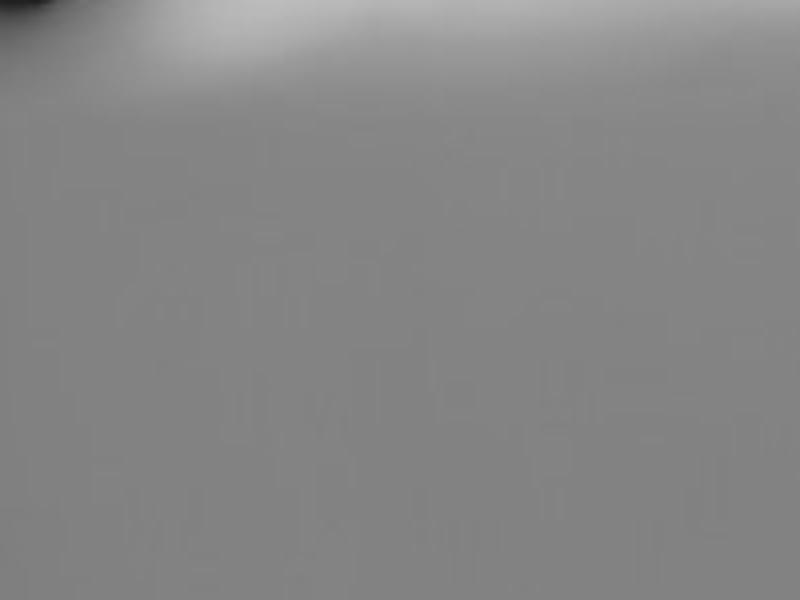defect: (7, 1, 53, 13)
